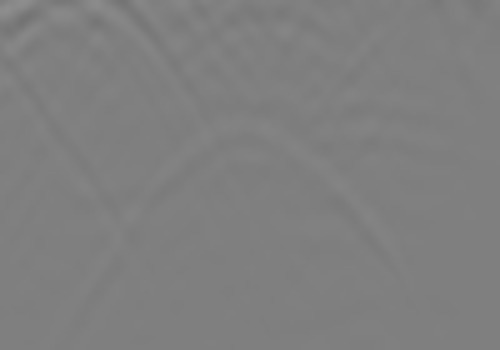hyperbola: (110, 110, 419, 304)
